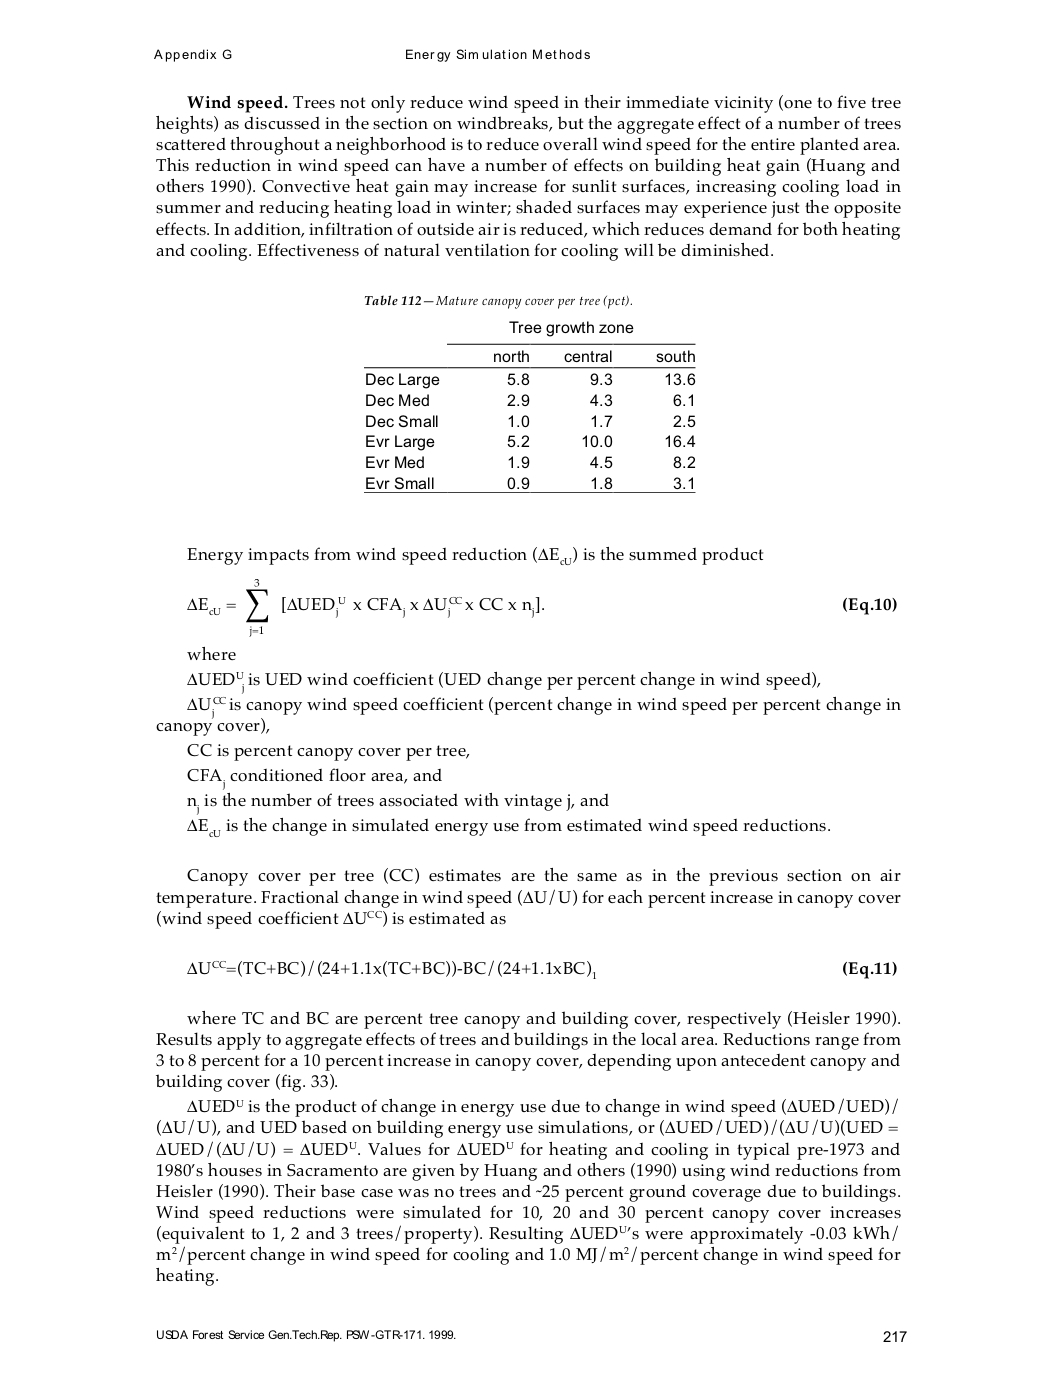Table: (364, 321, 695, 491)
formula: (187, 580, 896, 636), (187, 960, 896, 978)
